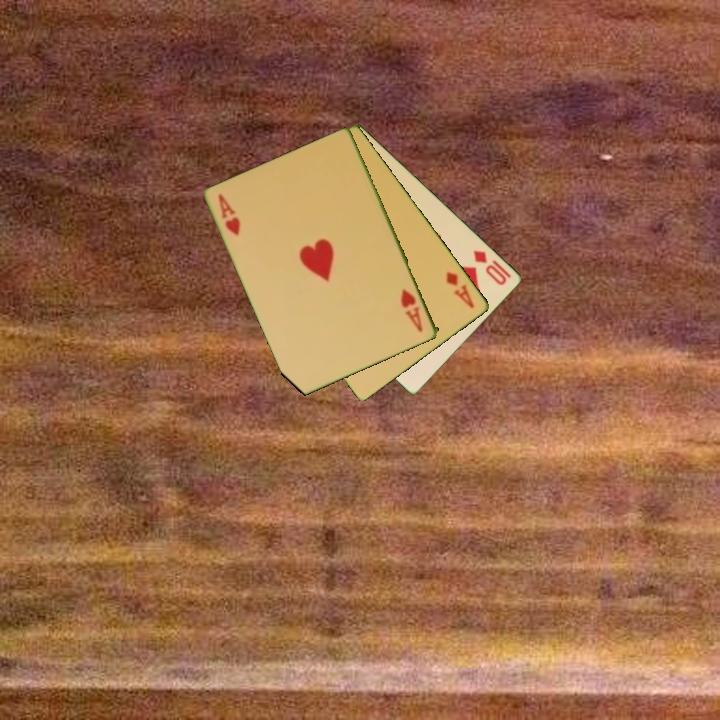10d: (470, 247, 514, 288)
Ad: (443, 268, 478, 311)
Ah: (397, 286, 426, 335), (215, 190, 244, 239)
